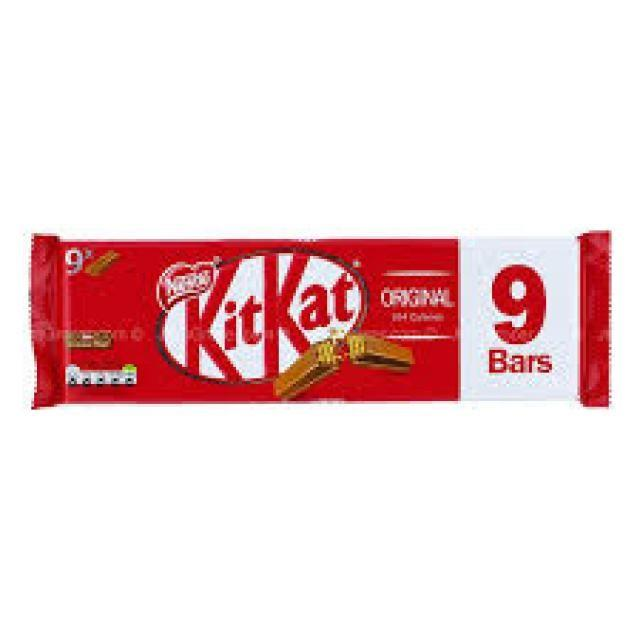kitkat_chocolate: (18, 215, 625, 438)
